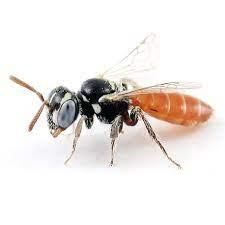Allodapula: (9, 33, 217, 176)
